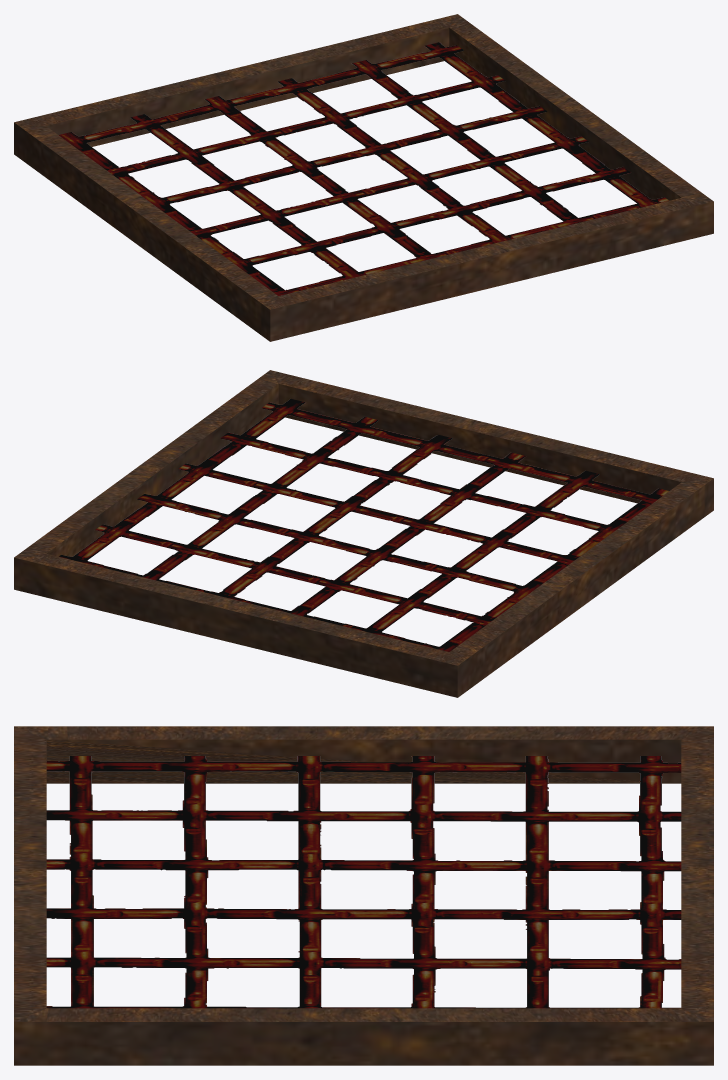
File: cagefloor.fbx
3 views of the same model, one above another, from view 1: azimuth 30°, elevation 25°; view 2: azimuth 150°, elevation 25°; view 3: azimuth 270°, elevation 25° (orthographic). The views are drawn at different scales.
Parts seen in each view (by area): view 1: Cube; view 2: Cube; view 3: Cube.
Boxes of the visible parts, x1,y1,x2,y2 form: Cube: (14,14,713,341); Cube: (14,370,713,697); Cube: (14,726,713,1065).
Size of the model in its own units: 100 by 6.91 by 100.
